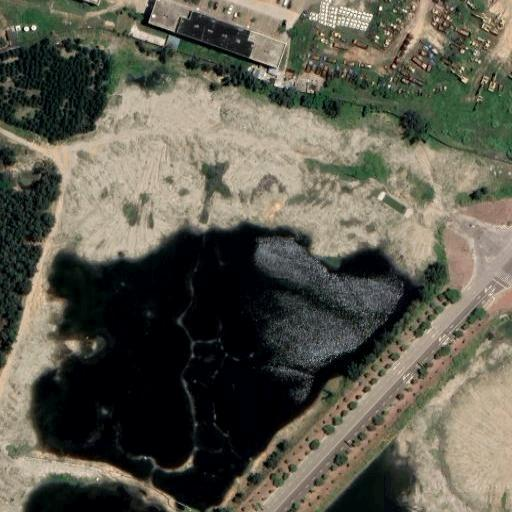building: (295, 77, 316, 93), (251, 66, 267, 81), (165, 36, 181, 50), (6, 25, 19, 41), (273, 77, 291, 88), (268, 66, 278, 75)
